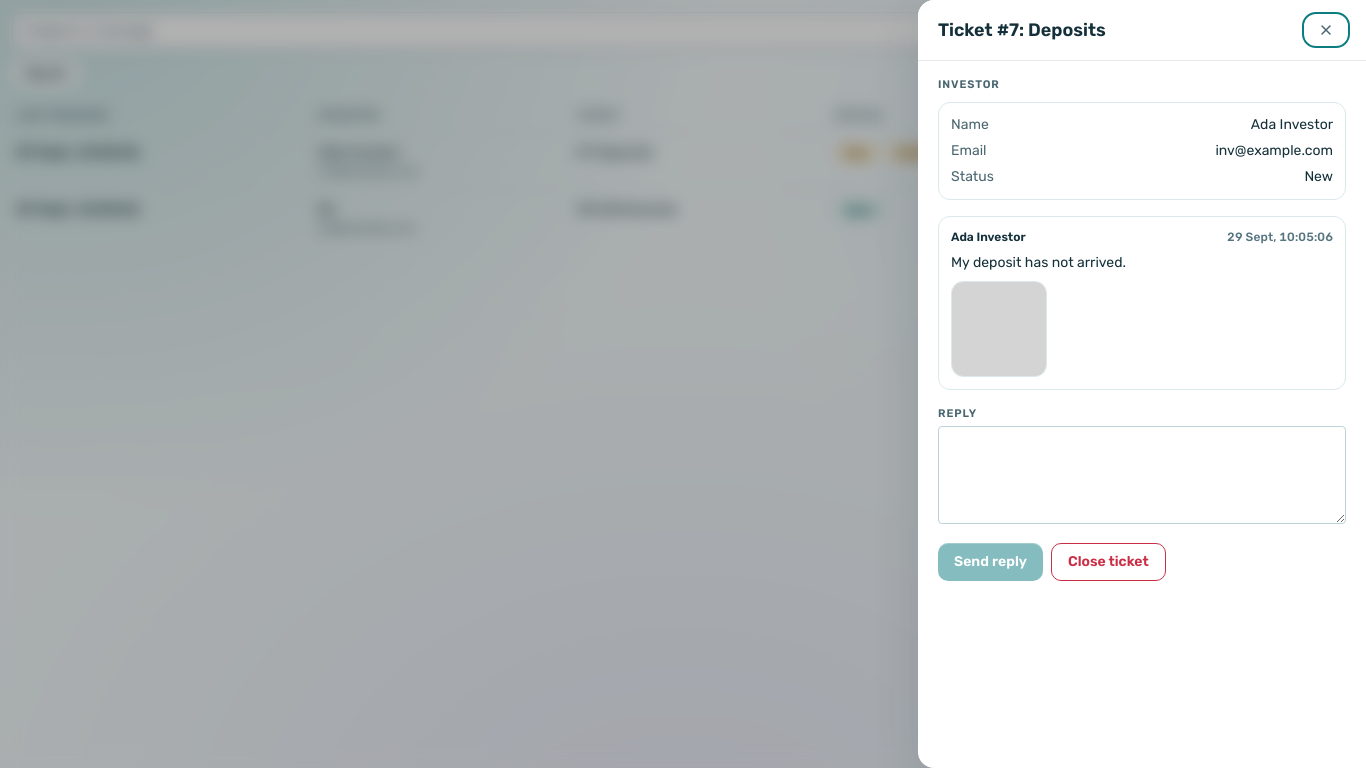
Test: a later link is followed while mounted, and closing the drawer reports it
Expected: the text "#7 Deposits" is shown, [560,132,819,189]
Click the button named "Close" at (1326, 30), box [1306,16,1346,44]
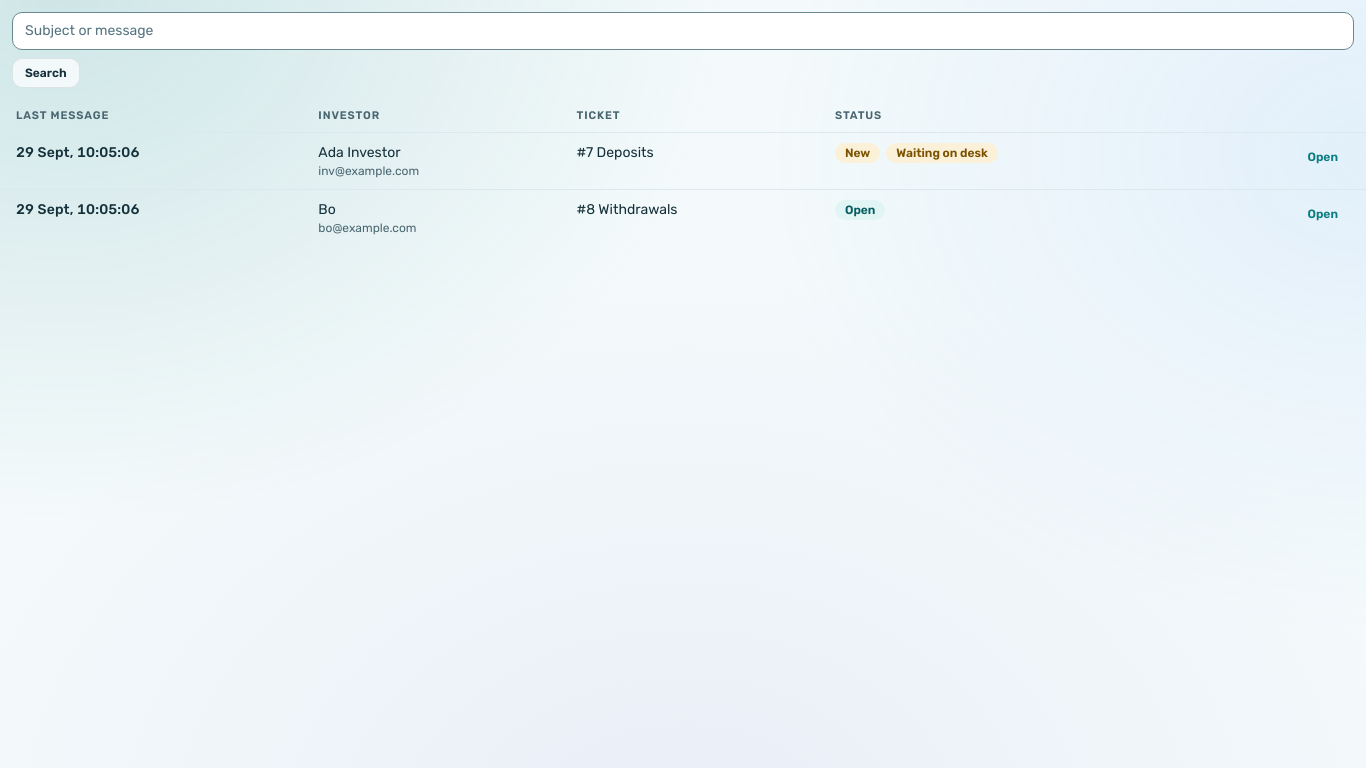
Now the dialog is gone
